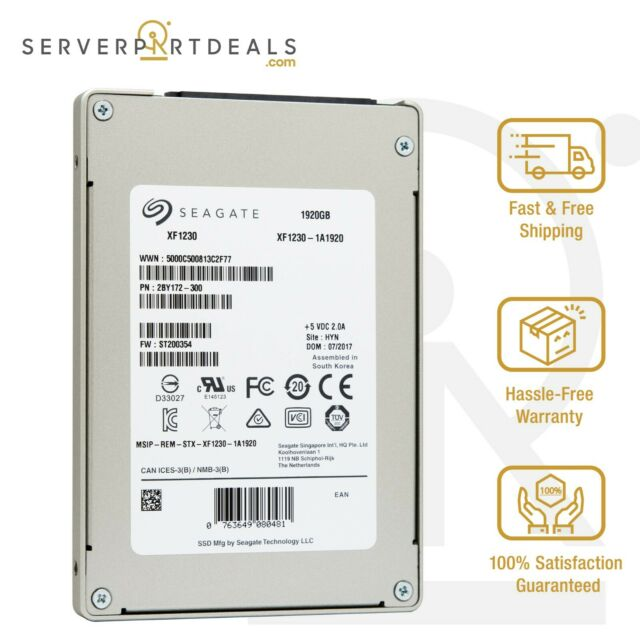seagate-hdd-240gb: (68, 99, 429, 618)
